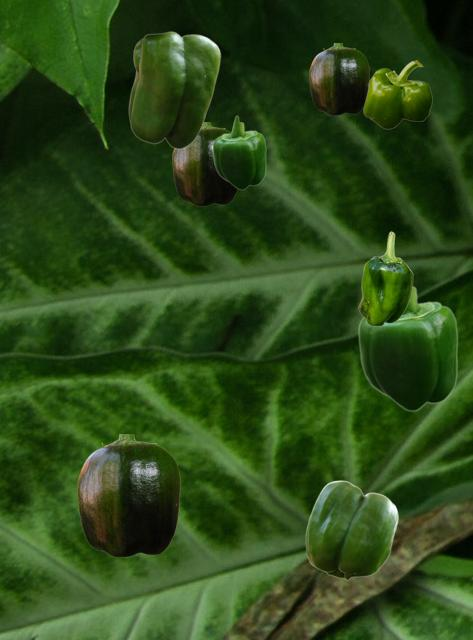bell_pepper: (357, 285, 457, 411), (77, 434, 179, 556), (128, 31, 220, 148), (305, 480, 397, 579), (172, 122, 238, 205), (358, 231, 412, 325), (363, 60, 431, 128), (309, 43, 368, 114), (212, 115, 265, 189)
